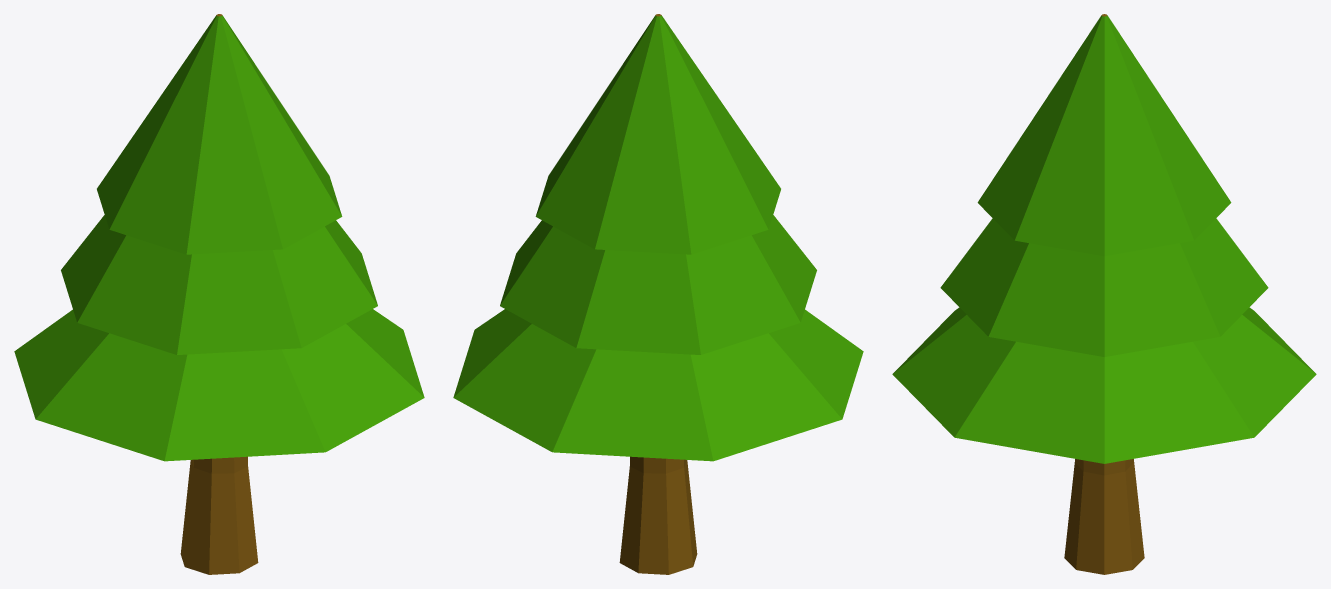
Rendered from tree.dae.
The picture shows the model from 3 angles, left to right: view 1: azimuth 30°, elevation 25°; view 2: azimuth 150°, elevation 25°; view 3: azimuth 270°, elevation 25°; orthographic projection.
Visible parts, largest first — view 1: Cylinder; view 2: Cylinder; view 3: Cylinder.
Part boxes in pixels (x1,y1,x2,y2): Cylinder: (14,14,424,574); Cylinder: (453,14,863,574); Cylinder: (892,14,1316,574).
Size of the model in its own units: 3.34 by 3.34 by 4.71.
Materials: 1 (1 with a texture image).
